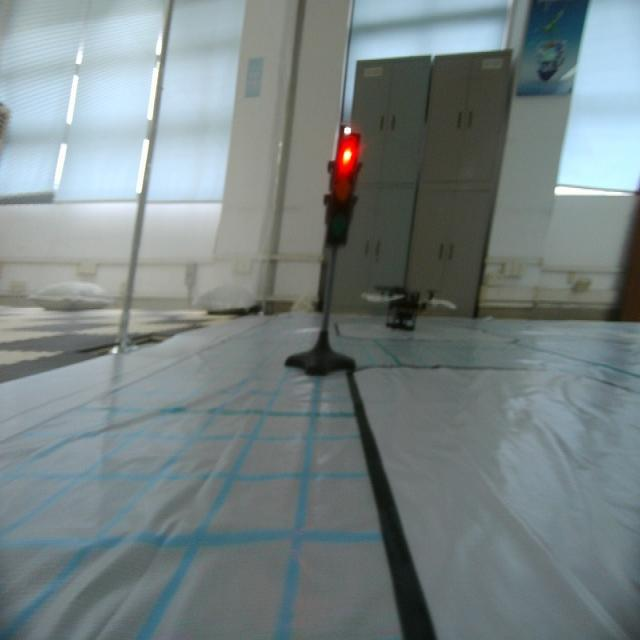red: (325, 127, 357, 250)
